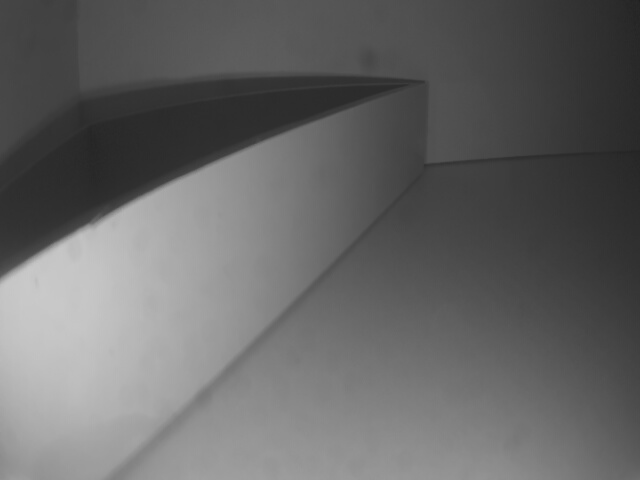Red: (0, 83, 429, 480)
